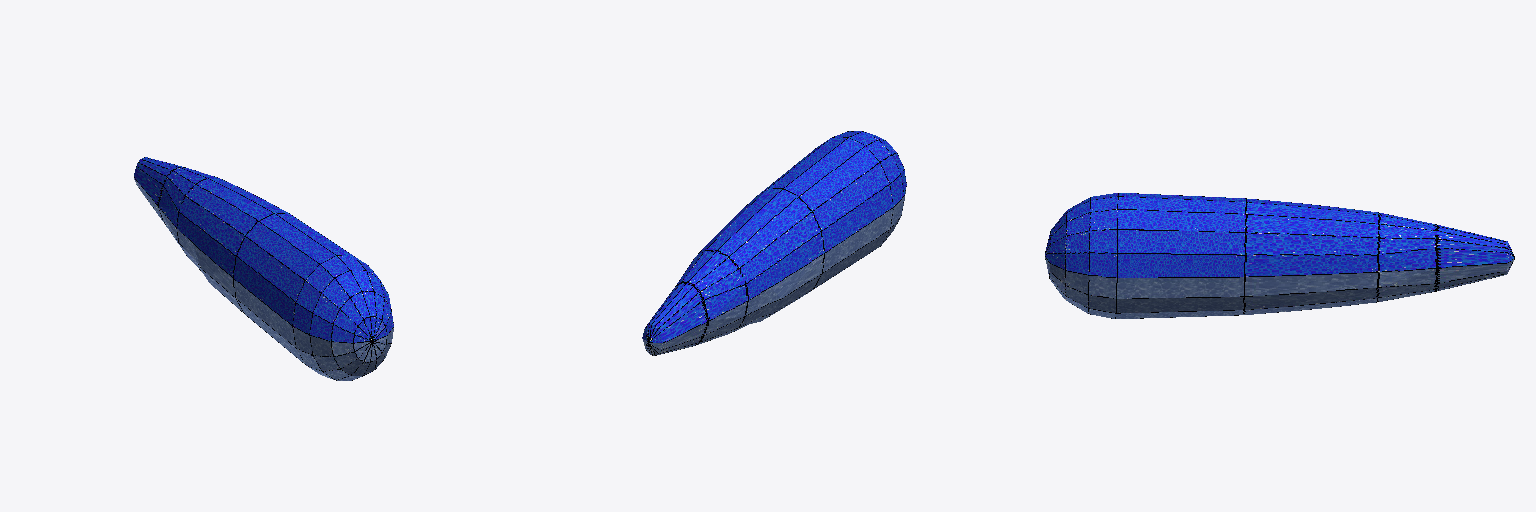
3 views of the same model, side by side, from view 1: azimuth 30°, elevation 25°; view 2: azimuth 150°, elevation 25°; view 3: azimuth 270°, elevation 25° (orthographic).
Parts seen in each view (by area): view 1: sphere7; view 2: sphere7; view 3: sphere7.
Part boxes in pixels (x1,y1,x2,y2): sphere7: (134, 157, 393, 380); sphere7: (642, 131, 906, 355); sphere7: (1045, 193, 1514, 318).
Size of the model in its own units: 0.3727 by 0.4772 by 1.71.
Materials: 1 (1 with a texture image).